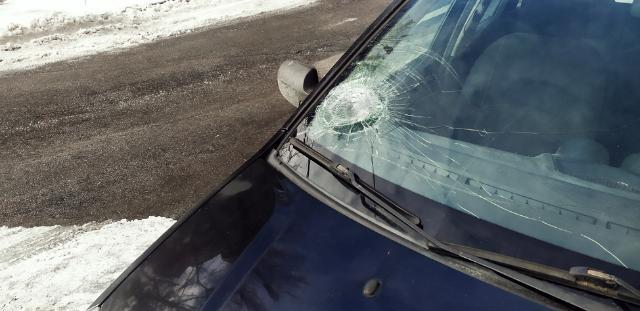Windshield: (286, 16, 548, 238)
